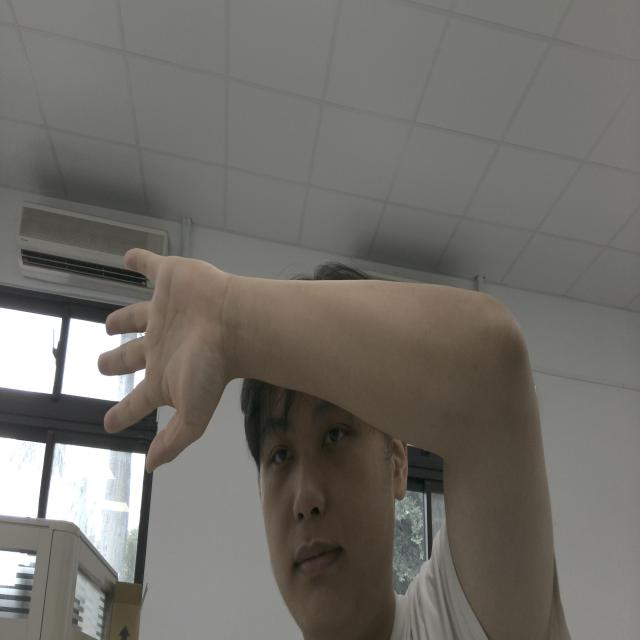Paper: (72, 232, 250, 492)
